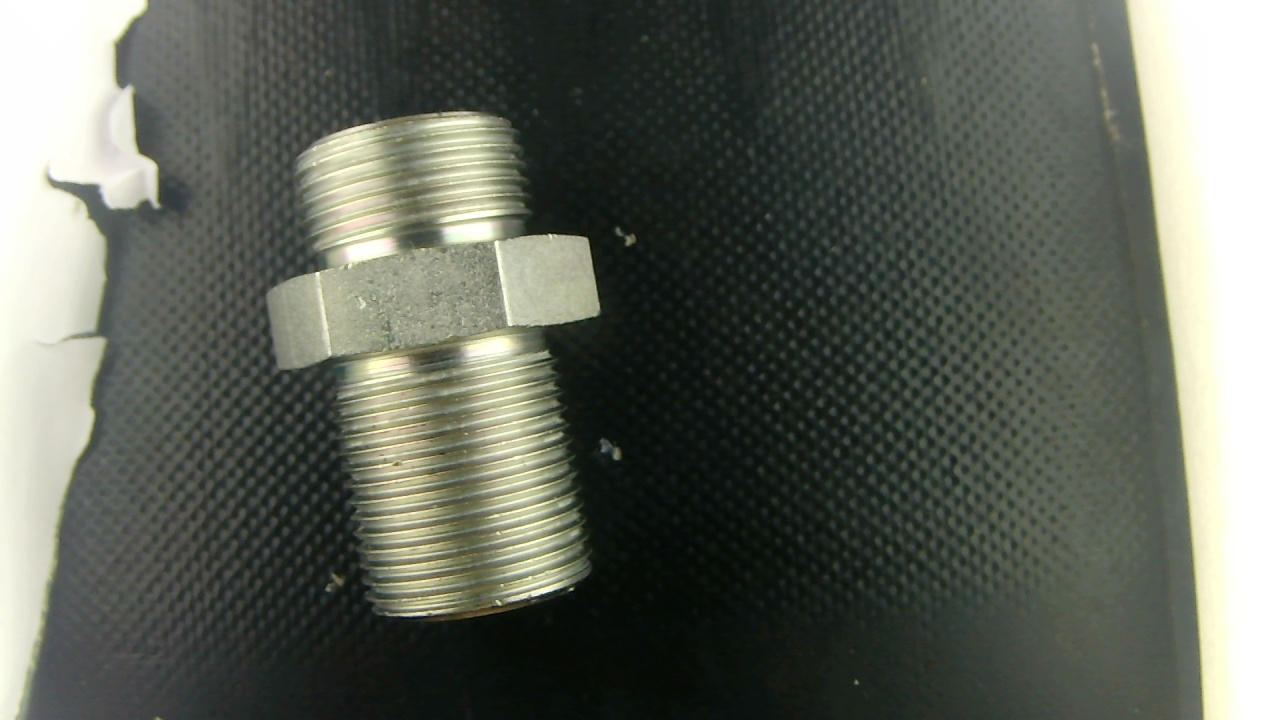SurfaceDent_Adaptor: (499, 232, 559, 243)
